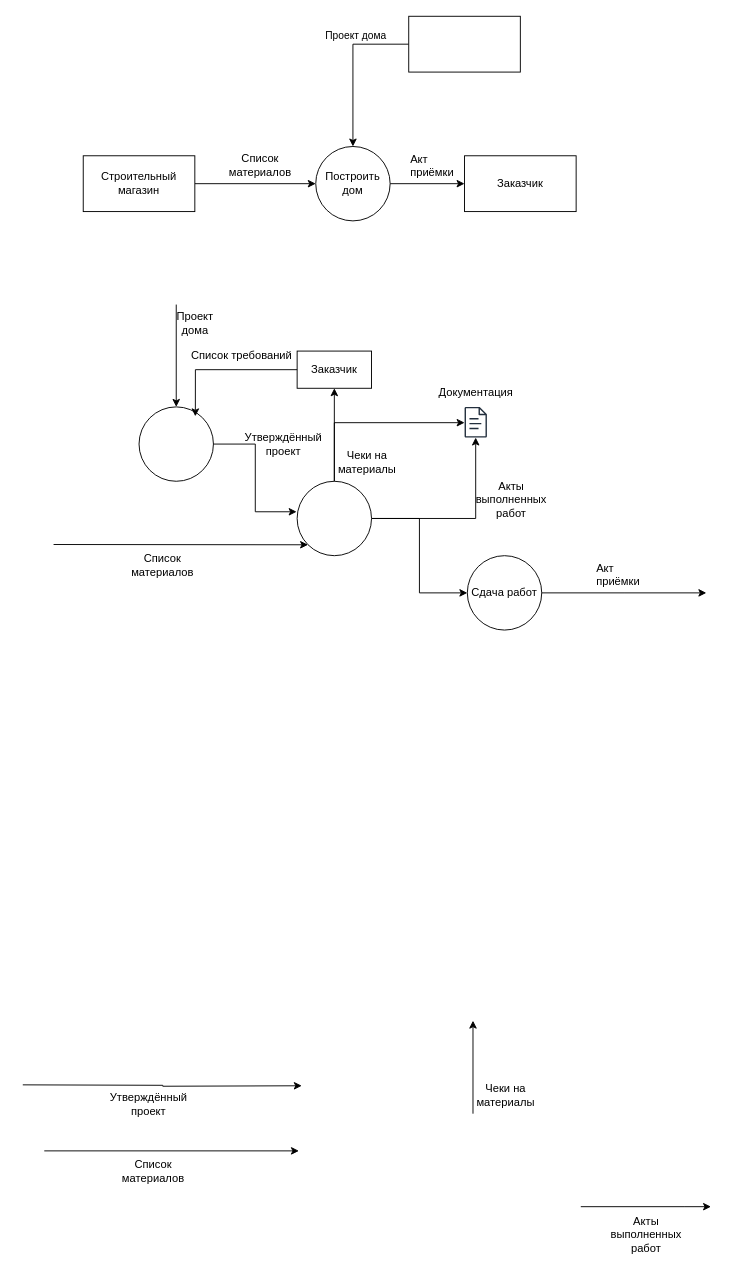
Image size: 735x1279. Some labels were removed from this diagram. Each missing label, with the centre of its shape:
Архитектор: point 464,43
Выполнение строительных работ: point 334,518
Согласование проекта: point 175,443
